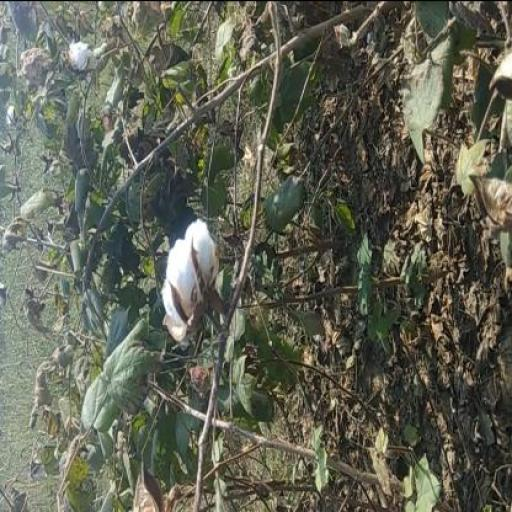cotton_ready: (156, 210, 250, 360)
